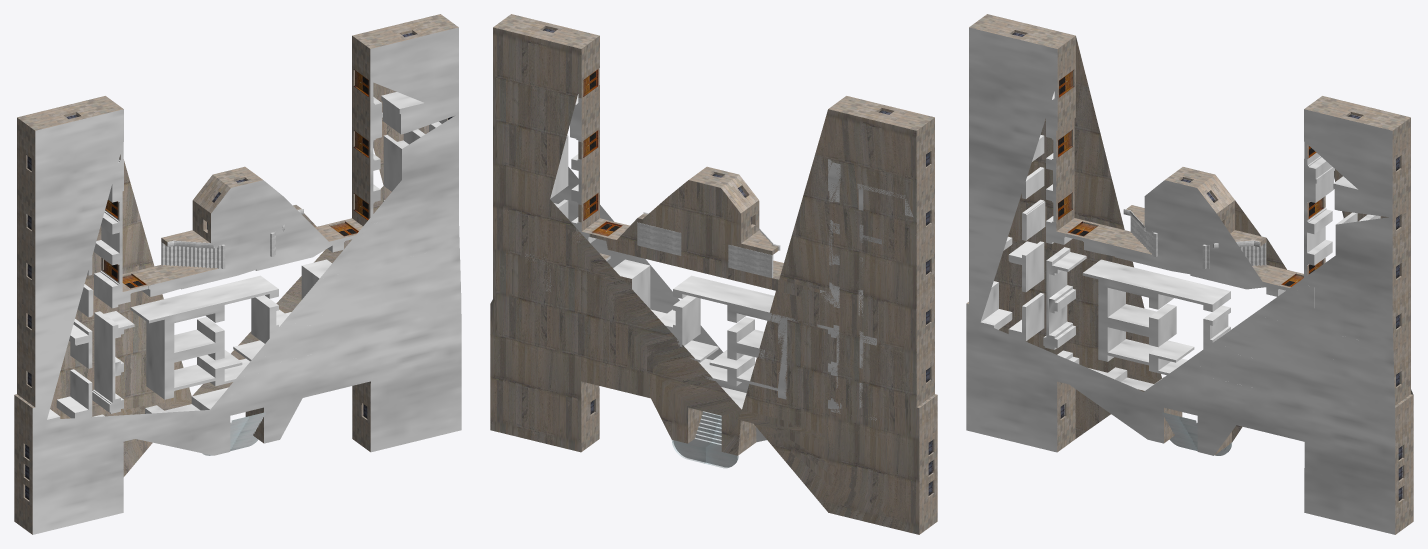
The model's file is castelo_mourisco_terreo.fbx.
3 views of the same model, side by side, from view 1: azimuth 30°, elevation 25°; view 2: azimuth 150°, elevation 25°; view 3: azimuth 330°, elevation 25° (orthographic).
Parts seen in each view (by area): view 1: paredes_terreo, Escada Trás, Escada Frente, Janelas Térreo.001; view 2: paredes_terreo, Escada Trás, Escada Frente, Janelas Térreo.001; view 3: paredes_terreo, Escada Trás, Escada Frente, Janelas Térreo.001.
Boxes of the visible parts, x1,y1,x2,y2 form: paredes_terreo: [14, 14, 461, 534]; Escada Trás: [161, 209, 303, 268]; Escada Frente: [202, 412, 265, 455]; Janelas Térreo.001: [25, 32, 452, 499]; paredes_terreo: [490, 14, 937, 534]; Escada Trás: [637, 212, 780, 277]; Escada Frente: [671, 411, 738, 468]; Janelas Térreo.001: [543, 28, 932, 495]; paredes_terreo: [966, 14, 1413, 534]; Escada Trás: [1123, 209, 1266, 268]; Escada Frente: [1162, 412, 1232, 455]; Janelas Térreo.001: [1012, 32, 1402, 500].
Size of the model in its own units: 4739 by 4260 by 381.
Materials: 6 (6 with a texture image).
